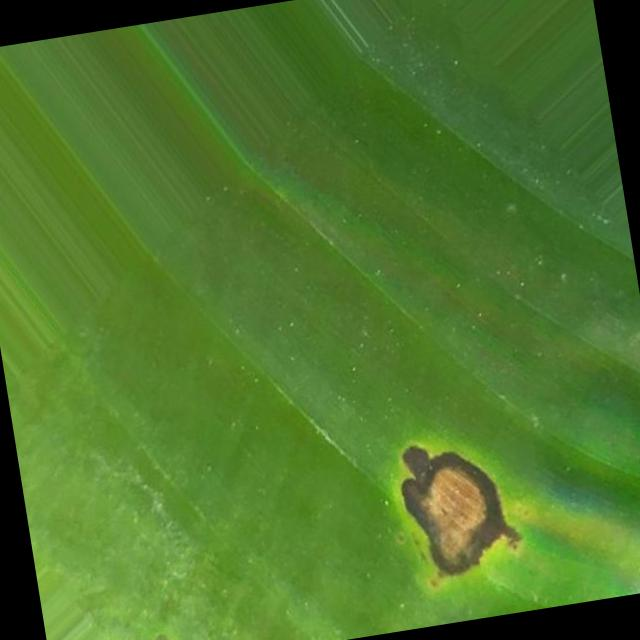Banana_Black_Sigatoka: (345, 368, 599, 634)
